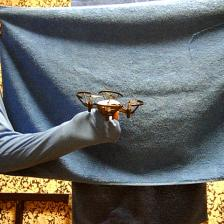drone: (75, 88, 145, 122)
